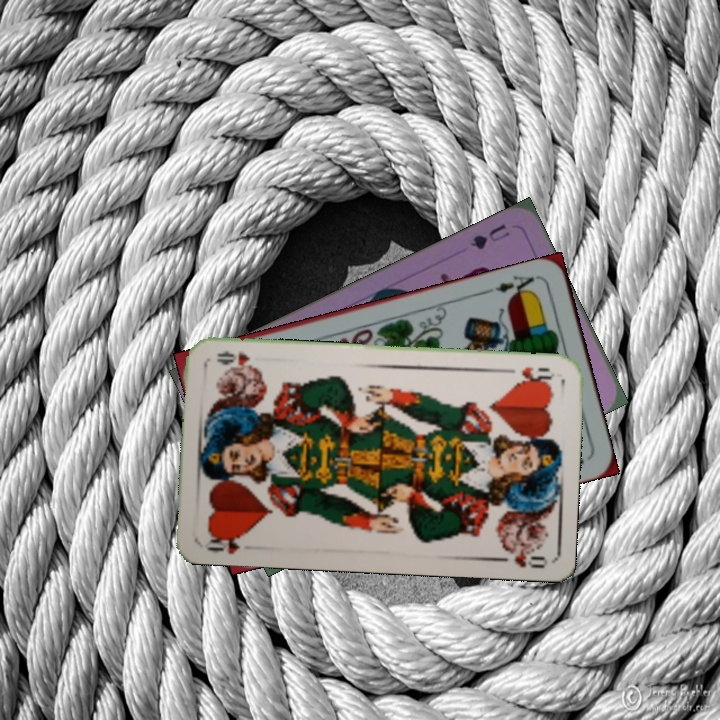EA: (483, 271, 541, 301)
GU: (466, 220, 513, 252)
HO: (499, 363, 557, 387), (203, 529, 247, 556)
